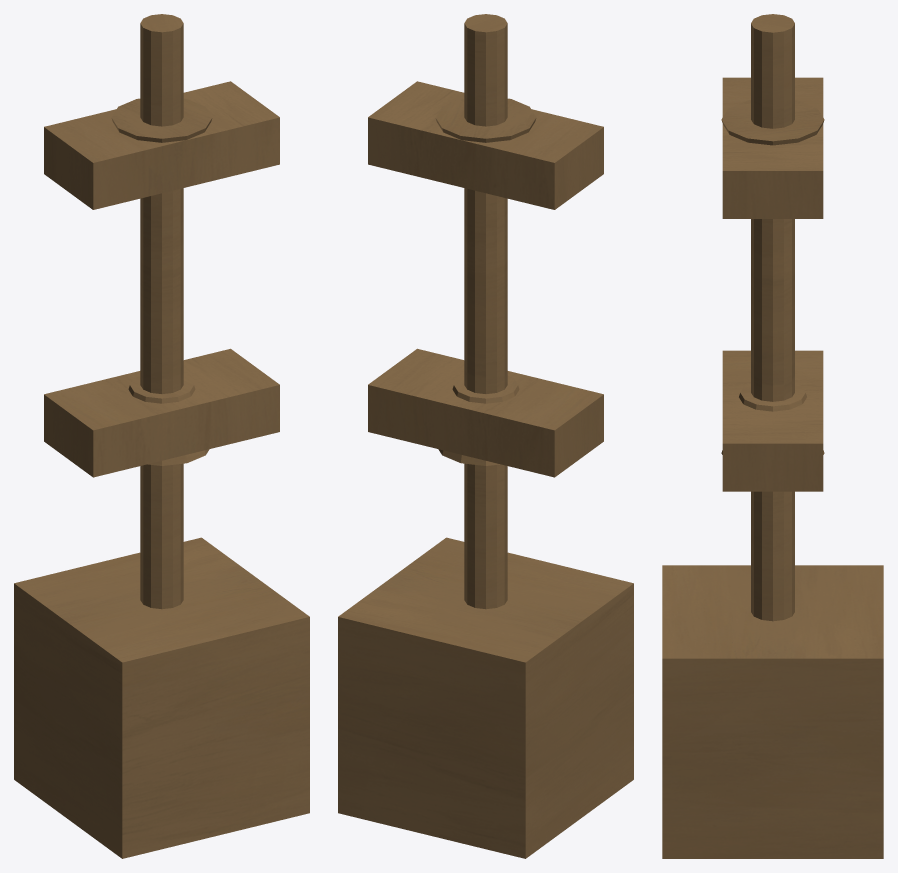
Rendered from Railingx1.glb.
The picture shows the model from 3 angles, left to right: view 1: azimuth 30°, elevation 25°; view 2: azimuth 150°, elevation 25°; view 3: azimuth 270°, elevation 25°; orthographic projection. The views are drawn at different scales.
Visible parts, largest first — view 1: Railingx1; view 2: Railingx1; view 3: Railingx1.
Boxes of the visible parts, x1,y1,x2,y2 form: Railingx1: (14, 14, 309, 858); Railingx1: (338, 14, 633, 858); Railingx1: (662, 14, 883, 858).
Size of the model in its own units: 2 by 7.88 by 2.
1 material, 1 textured.
